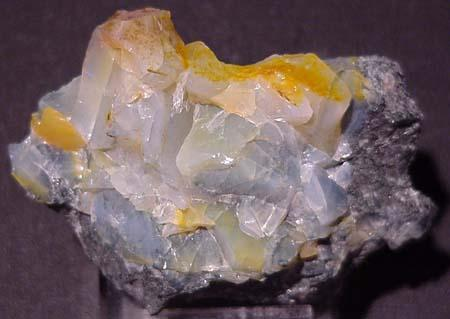opal: (9, 8, 352, 288)
